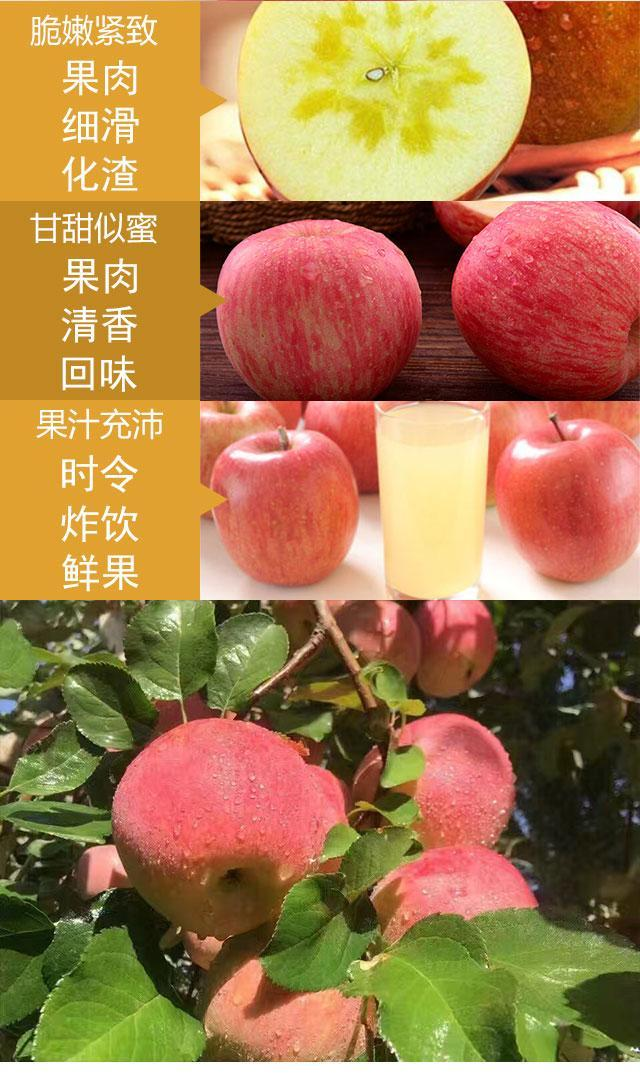apple: (108, 707, 357, 950), (218, 213, 430, 392), (446, 199, 640, 386), (488, 410, 637, 588), (209, 418, 359, 590), (350, 717, 513, 855), (199, 952, 375, 1061)
